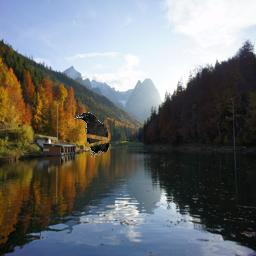Crow: (74, 112, 109, 158)
